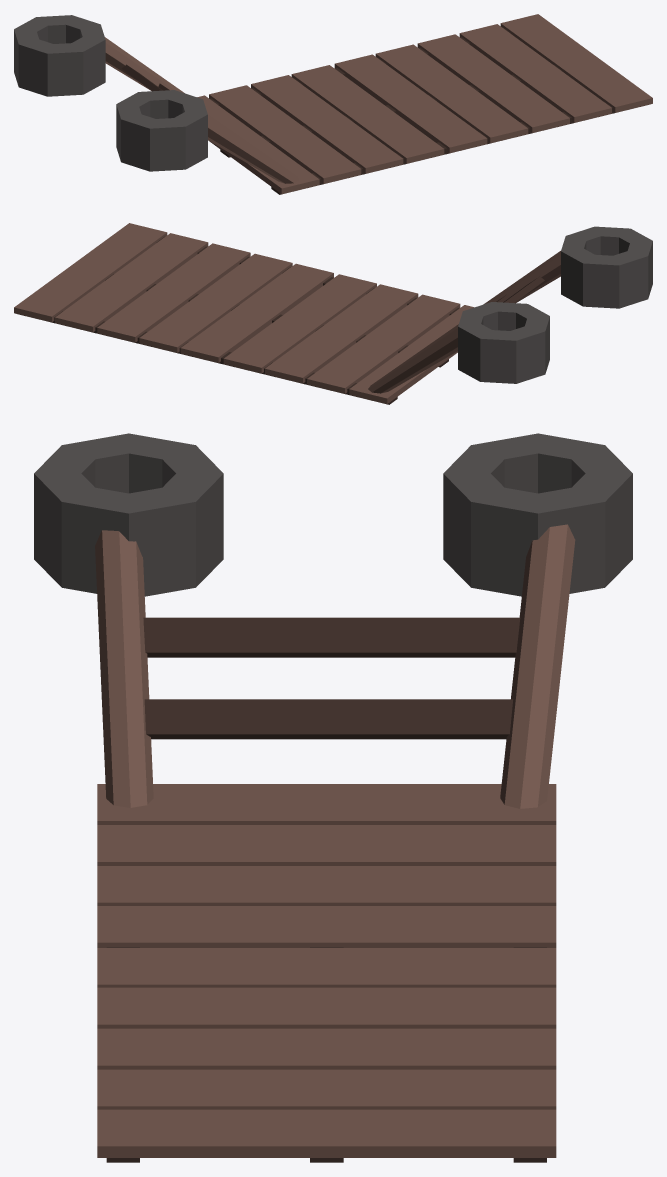
The model's file is west_lift_body.fbx.
The picture shows the model from 3 angles, top to bottom: view 1: azimuth 30°, elevation 25°; view 2: azimuth 150°, elevation 25°; view 3: azimuth 270°, elevation 25°; orthographic projection. The views are drawn at different scales.
Parts seen in each view (by area): view 1: pCube15; view 2: pCube15; view 3: pCube15.
Boxes of the visible parts, x1,y1,x2,y2 form: pCube15: (14,14,652,194); pCube15: (14,223,652,404); pCube15: (34,433,632,1162).
Bounding box in the file's own units: 11.31 × 2.25 × 5.6.
